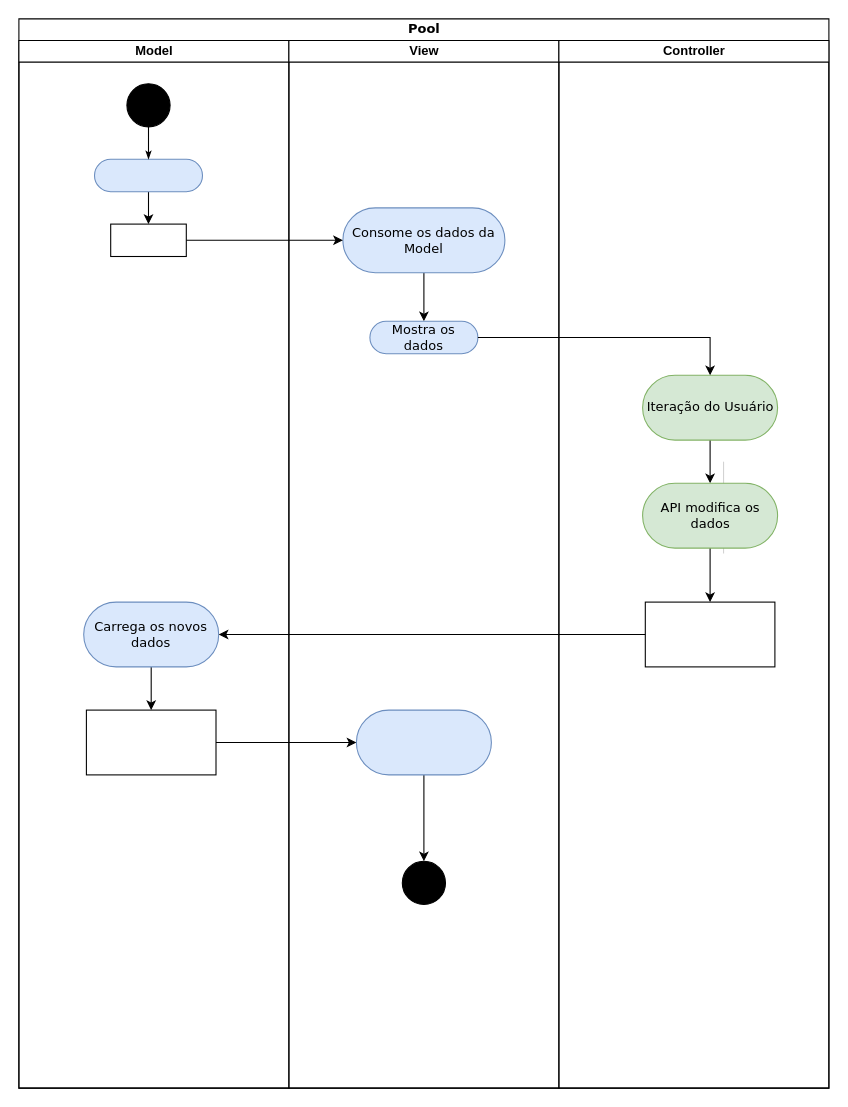
Some shapes in this 848 by 1107 pixel diagram are drawn without their labels. Each missing label, with the centre of its shape:
Carrega os dados: [147,175]
Dados Modificados: [709,634]
Estado 1: [148,239]
Estado 2: [150,742]
Mostra o novo estado: [423,742]
